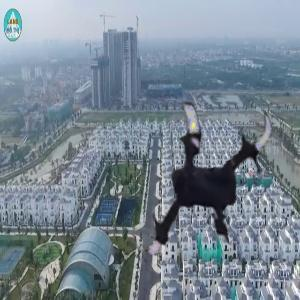drone: (103, 77, 294, 268)
